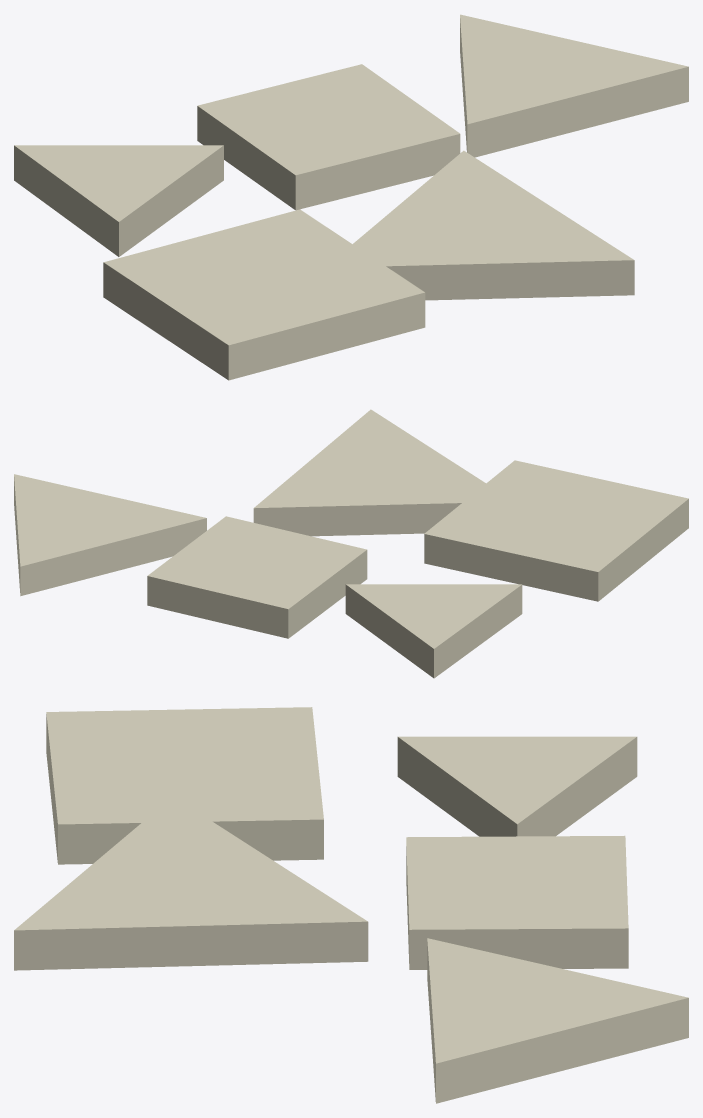
File: scavengers-loot-library-ceramic-shards-958dcdb3__2633.glb
3 renders of one model, top to bottom at view 1: azimuth 30°, elevation 25°; view 2: azimuth 150°, elevation 25°; view 3: azimuth 270°, elevation 25°, orthographic. The views are drawn at different scales.
Parts seen in each view (by area): view 1: ceramic-shards; view 2: ceramic-shards; view 3: ceramic-shards.
Part boxes in pixels (box(x1,y1,x2,y2)): ceramic-shards: box(14, 14, 688, 380); ceramic-shards: box(14, 409, 688, 678); ceramic-shards: box(14, 707, 688, 1103).
Bounding box in the file's own units: 0.1524 × 0.008 × 0.1219.
